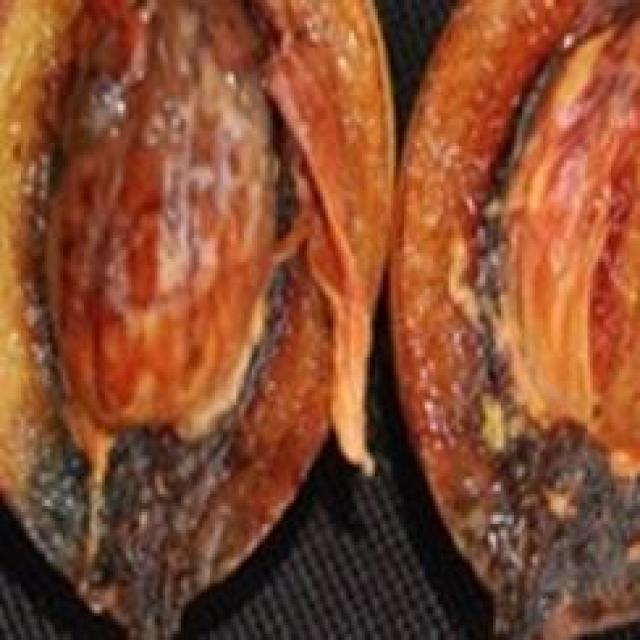damaged: (391, 0, 637, 637)
